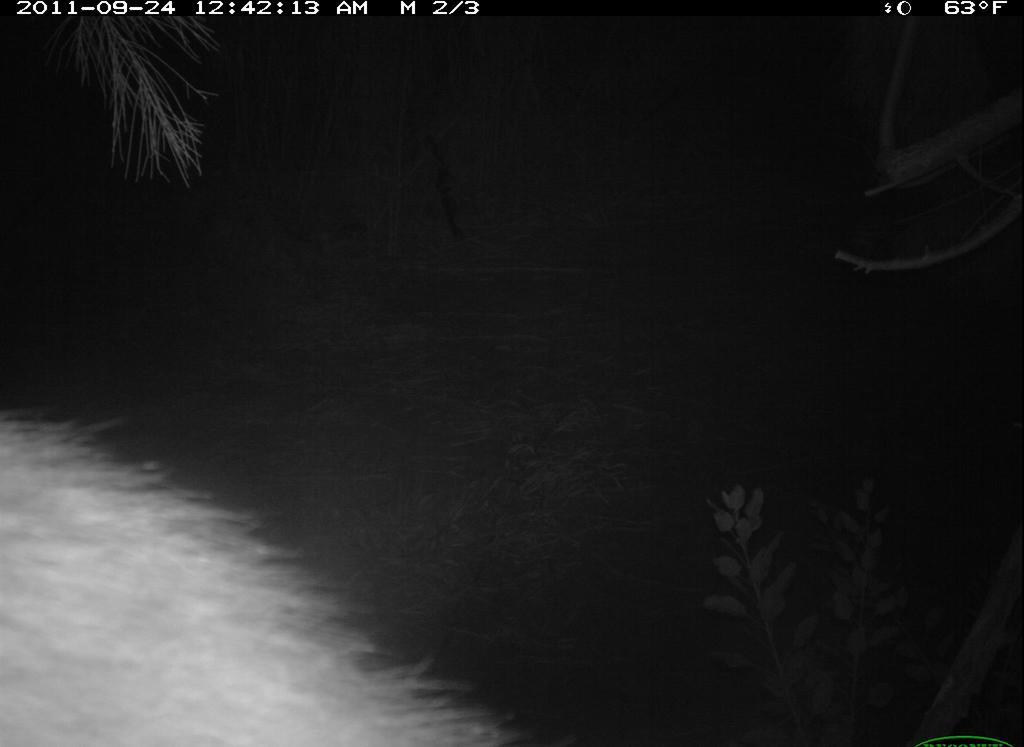raccoon: (1, 409, 557, 747)
